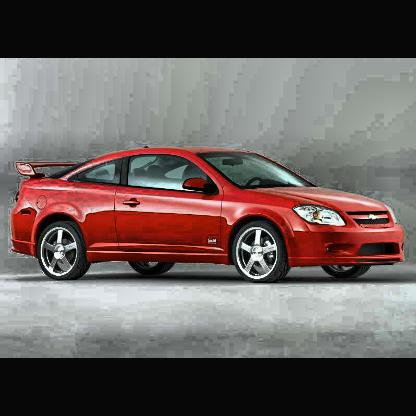Chevrolet Cobalt SS 2010: (10, 145, 408, 282)
